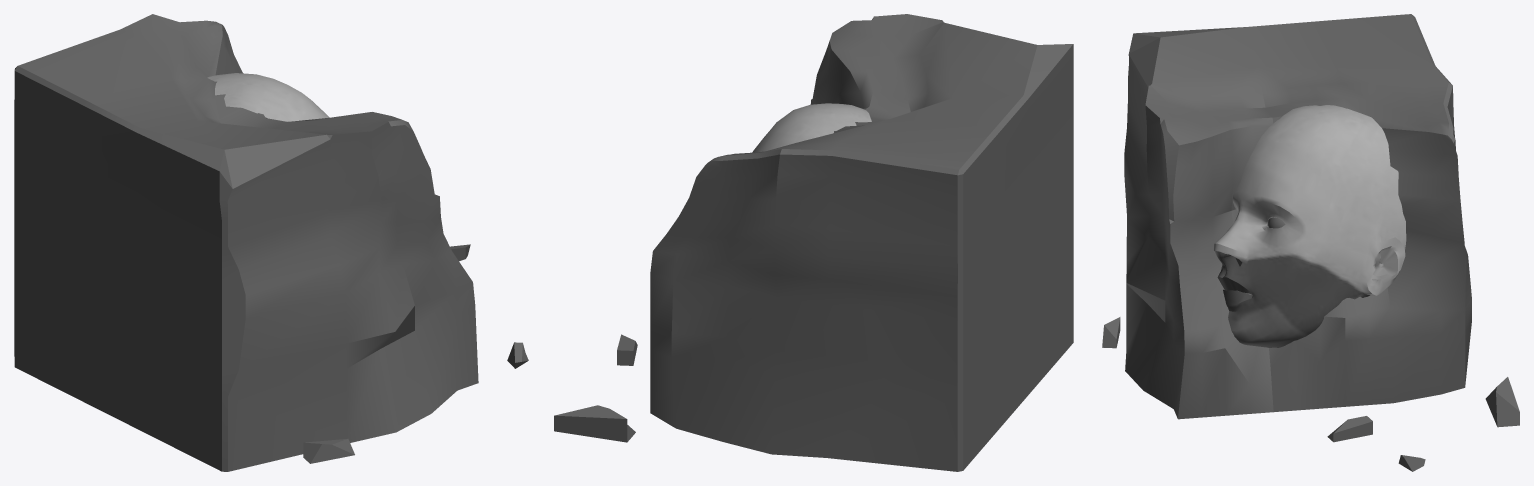
The model's file is head.fbx.
The picture shows the model from 3 angles, left to right: view 1: azimuth 30°, elevation 25°; view 2: azimuth 150°, elevation 25°; view 3: azimuth 270°, elevation 25°; orthographic projection. The views are drawn at different scales.
Visible parts, largest first — view 1: stone_head2; view 2: stone_head2; view 3: stone_head2.
Boxes of the visible parts, x1,y1,x2,y2 form: stone_head2: (14, 14, 478, 471); stone_head2: (507, 14, 1073, 471); stone_head2: (1102, 14, 1519, 471).
Size of the model in its own units: 3.17 by 2.03 by 2.86.
1 material, 1 textured.
